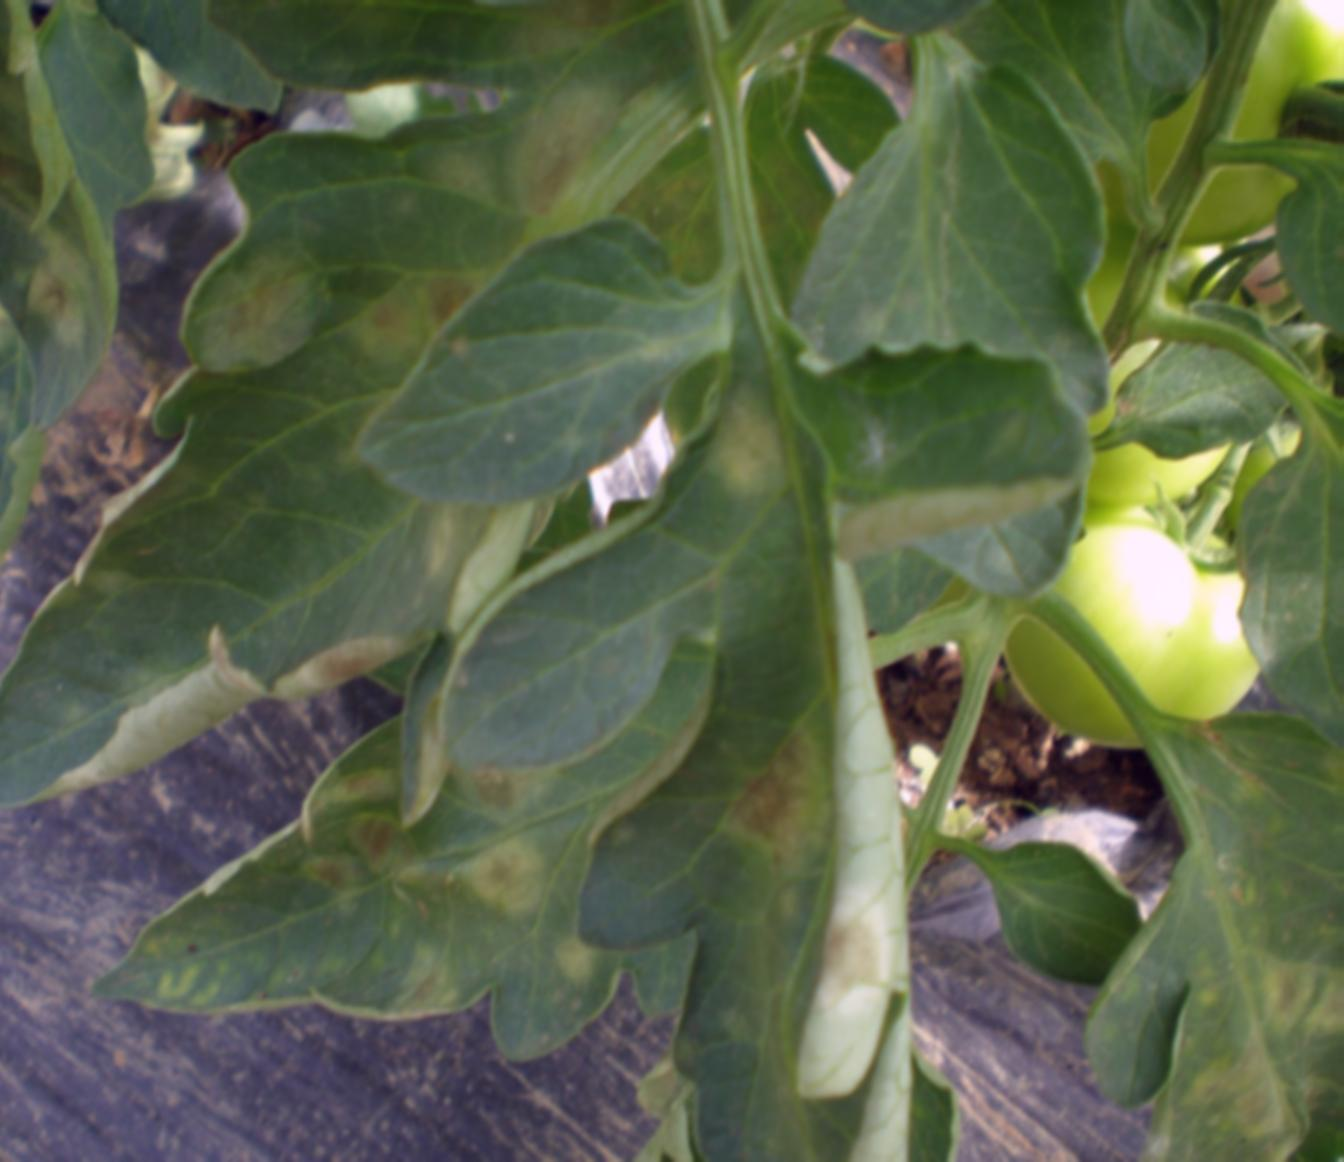Tomato mold leaf: (0, 26, 762, 814), (125, 577, 685, 1051), (613, 433, 925, 1156), (789, 29, 1122, 392), (1088, 691, 1344, 1162), (0, 0, 144, 671)
